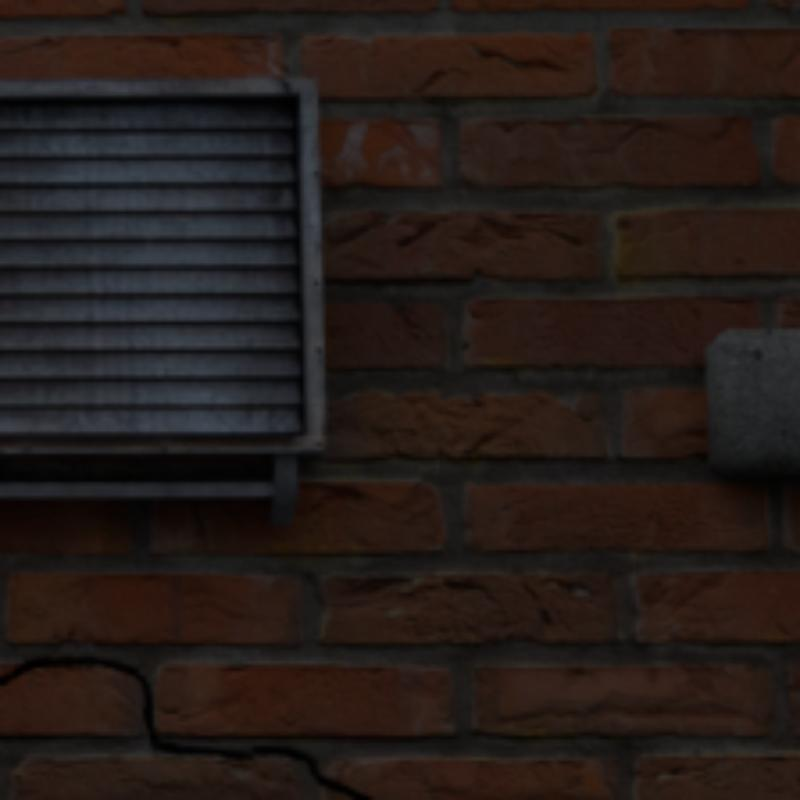pothole: (143, 682, 368, 796), (0, 657, 143, 682)
